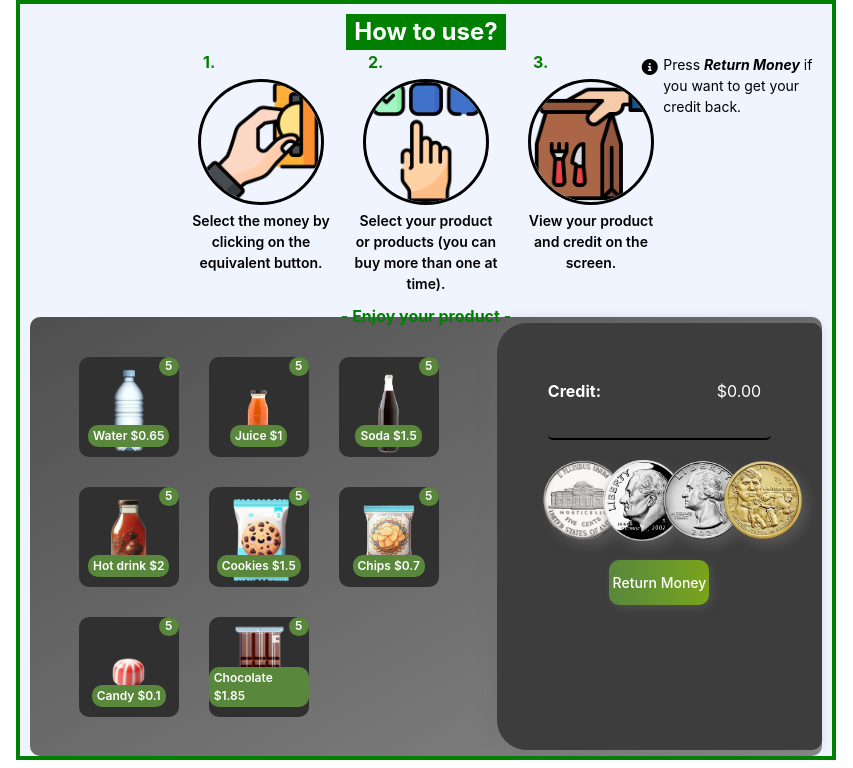
Test: App test › Allows users to select a product
Click the element showing "5 Water $0.65" at (129, 407), box top-left (79, 357), bottom-right (179, 457)
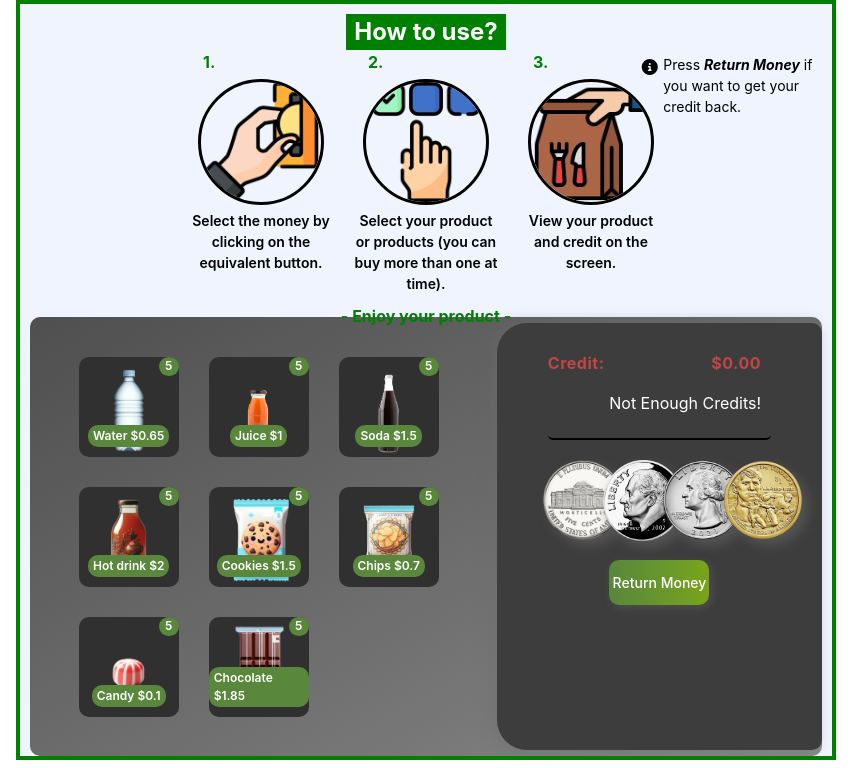
Expected: the text "Water $0.65" is shown, top-left (88, 425), bottom-right (169, 447)
Result: the text "Not Enough Credits!" is shown at top-left (609, 391), bottom-right (761, 415)
